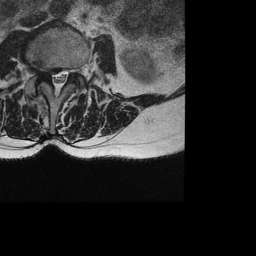CCS_normal: (52, 60, 60, 101)
LFS_stenosis: (69, 57, 77, 84)
LLS_normal: (60, 59, 68, 91)
RFS_severe_stenosis: (37, 58, 45, 80)
RLS_severe_stenosis: (45, 60, 52, 87)
